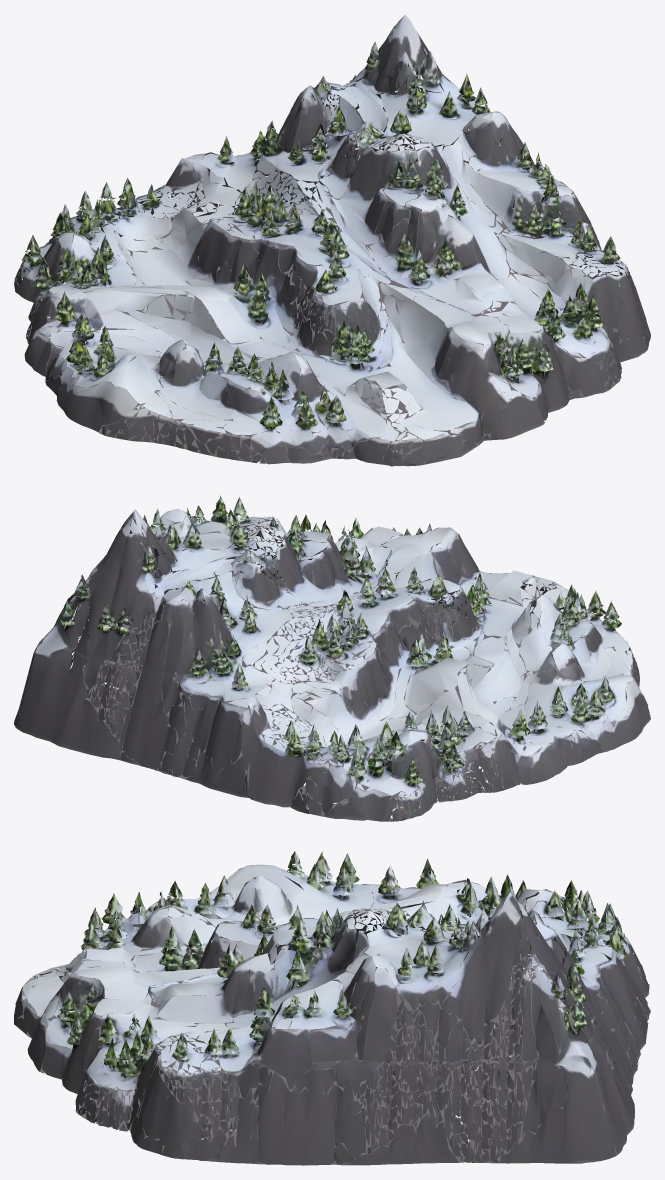
Rendered from mountain_main_gen.glb.
3 views of the same model, one above another, from view 1: azimuth 30°, elevation 25°; view 2: azimuth 150°, elevation 25°; view 3: azimuth 270°, elevation 25° (orthographic). The views are drawn at different scales.
Visible parts, largest first — view 1: mountain_main_gen; view 2: mountain_main_gen; view 3: mountain_main_gen.
Part boxes in pixels (bbox=[...]): mountain_main_gen: bbox=[14, 14, 650, 466]; mountain_main_gen: bbox=[14, 495, 650, 821]; mountain_main_gen: bbox=[14, 851, 650, 1165].
Bounding box in the file's own units: 3808 × 1501 × 3811.
1 material, 1 textured.
